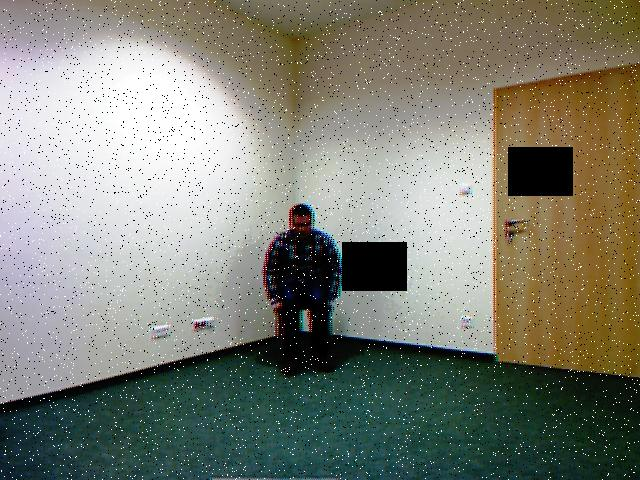sitting: (256, 191, 351, 385)
